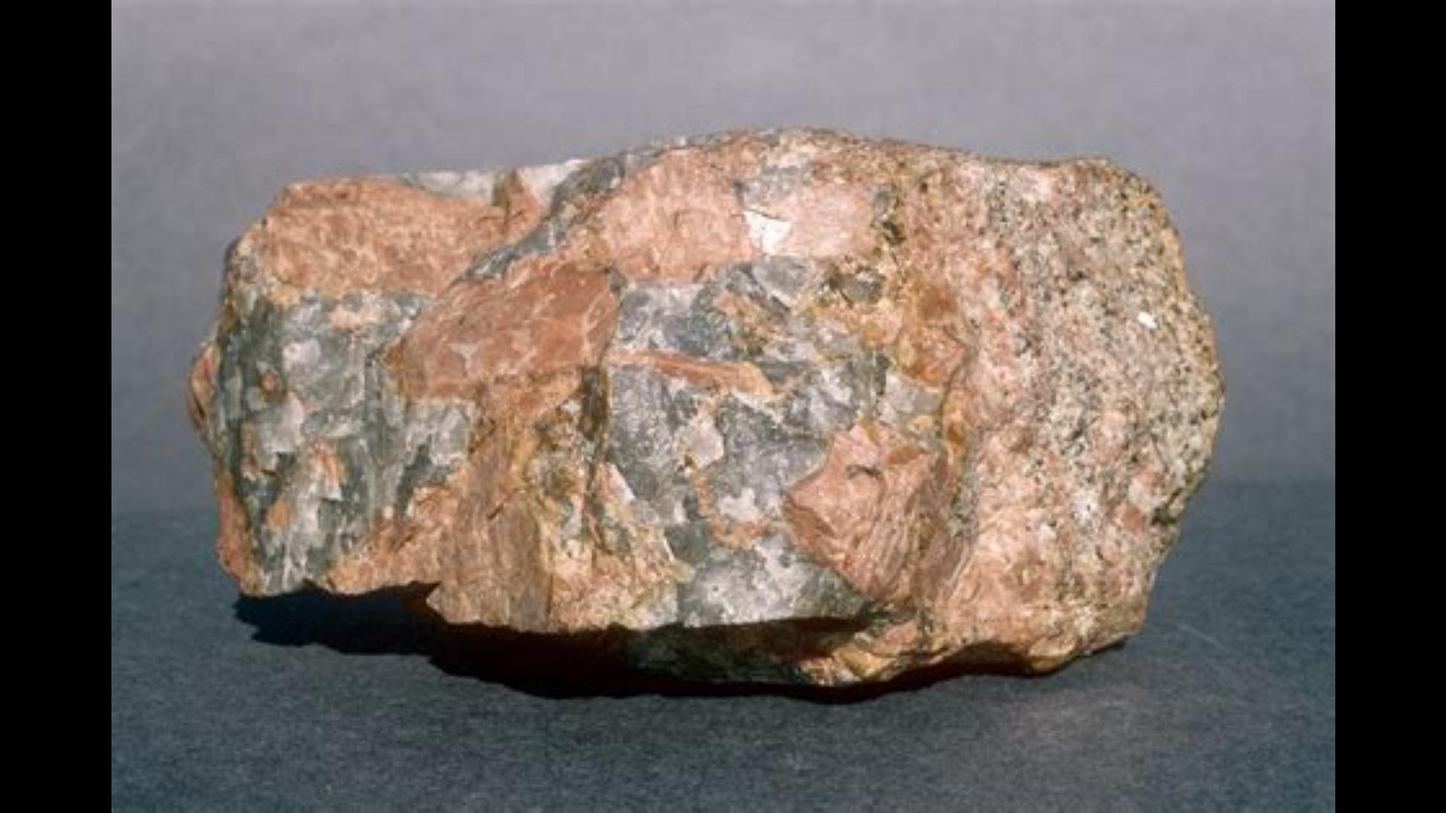rock: (188, 134, 1213, 684)
